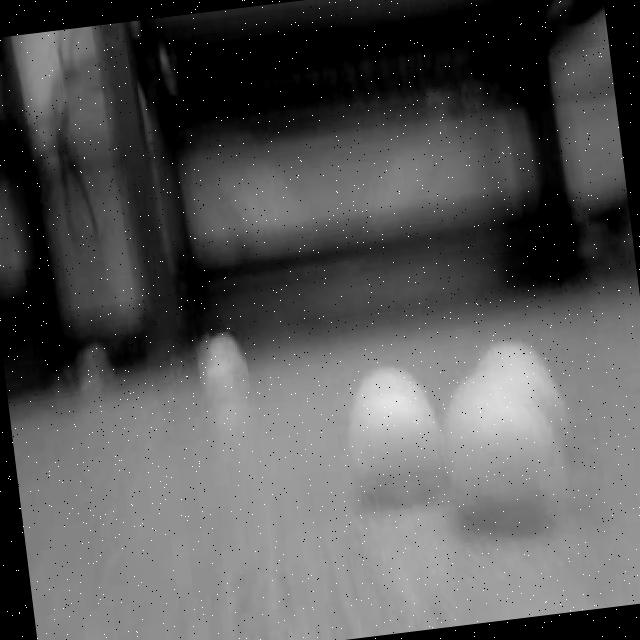ping-pong-ball: (432, 360, 572, 542), (340, 364, 441, 506), (192, 330, 250, 400)
